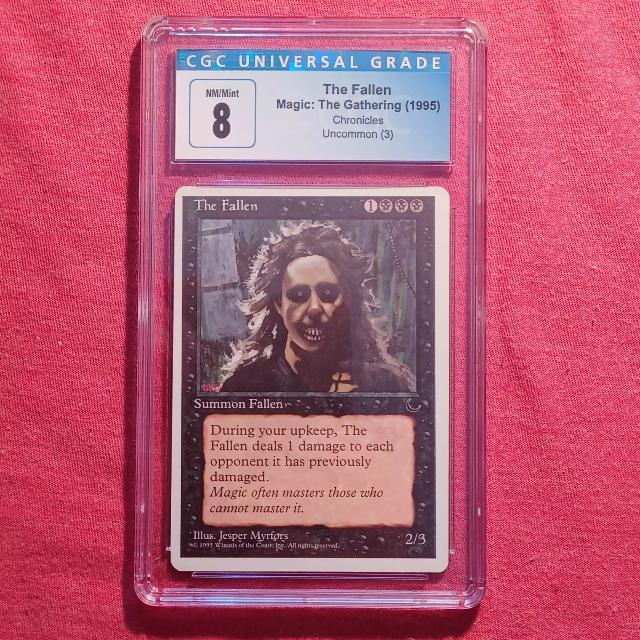card: (169, 186, 450, 573)
cgc_label_old: (175, 50, 452, 162)
cgc_slab: (134, 15, 488, 609)
